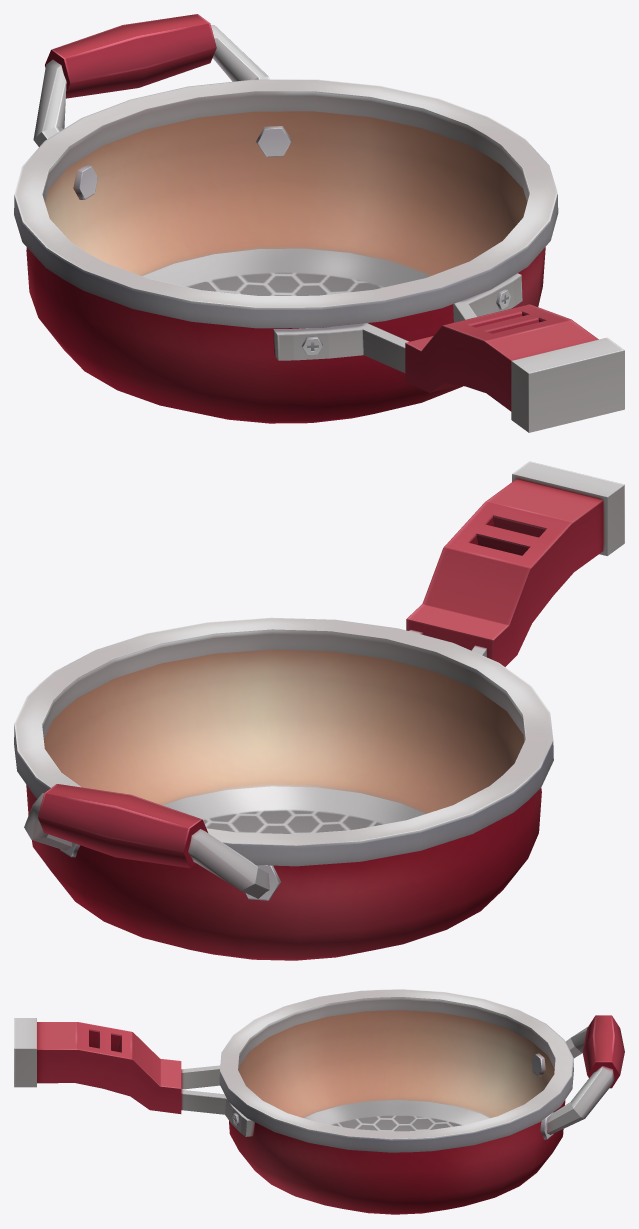
The model's file is 世界餐厅-道具-A级锅.FBX.
The picture shows the model from 3 angles, top to bottom: view 1: azimuth 30°, elevation 25°; view 2: azimuth 150°, elevation 25°; view 3: azimuth 270°, elevation 25°; orthographic projection. The views are drawn at different scales.
Parts seen in each view (by area): view 1: 世界餐厅-道具-A级锅; view 2: 世界餐厅-道具-A级锅; view 3: 世界餐厅-道具-A级锅.
Boxes of the visible parts, x1,y1,x2,y2 form: 世界餐厅-道具-A级锅: (14,14,624,432); 世界餐厅-道具-A级锅: (14,461,624,960); 世界餐厅-道具-A级锅: (14,989,624,1214).
Bounding box in the file's own units: 38.45 × 16.98 × 66.09.
Materials: 1 (1 with a texture image).
